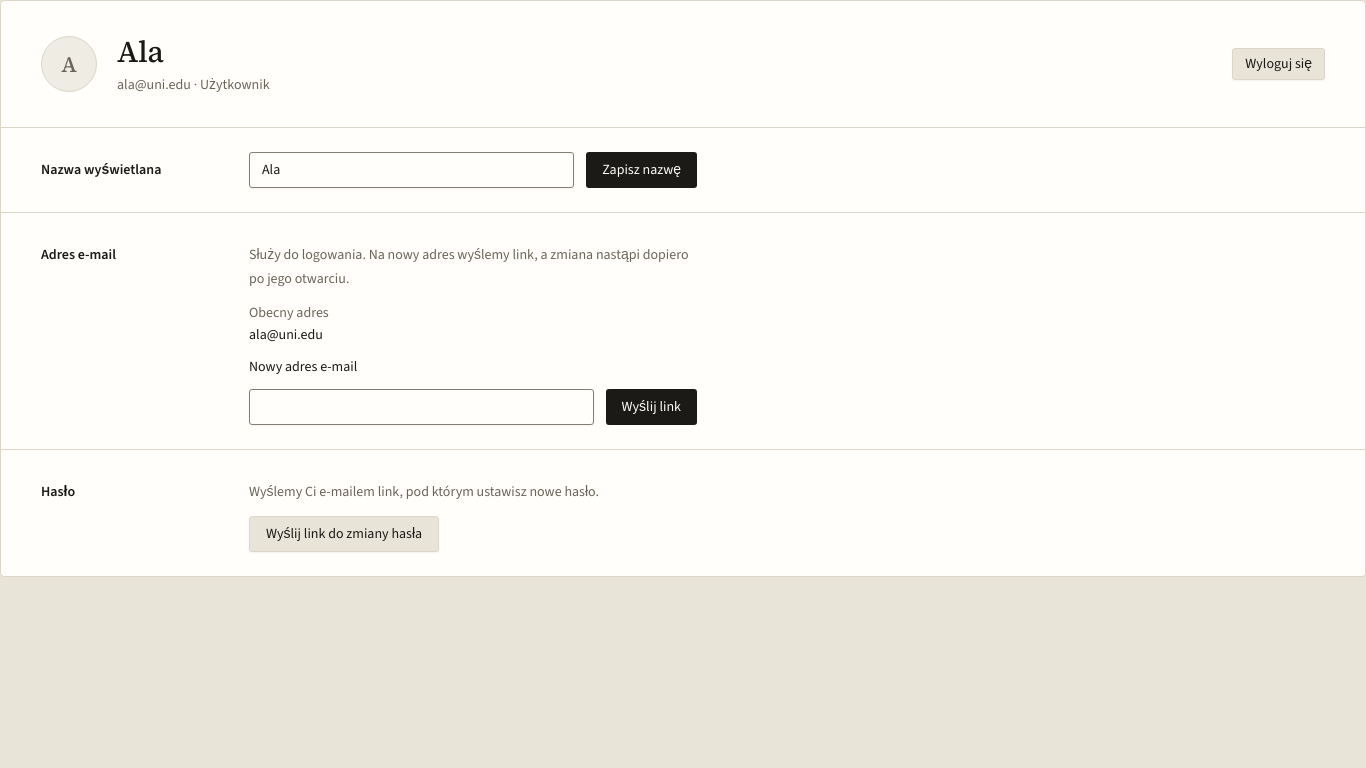
AccountSettings › validates the name before saving
Clear the field named "Nazwa" at (412, 170), box left=249, top=152, right=574, bottom=188
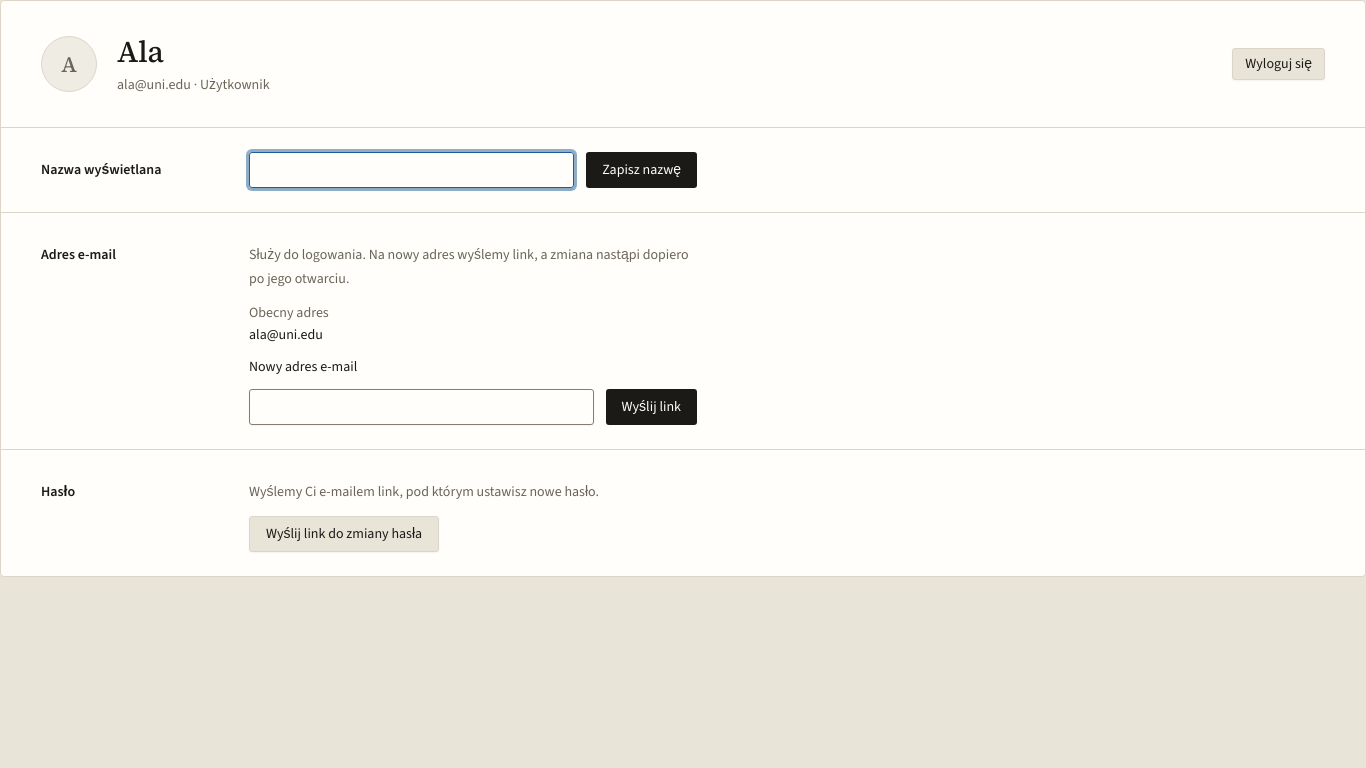
Click the button "Zapisz nazwę" at (642, 170), box left=586, top=152, right=697, bottom=188
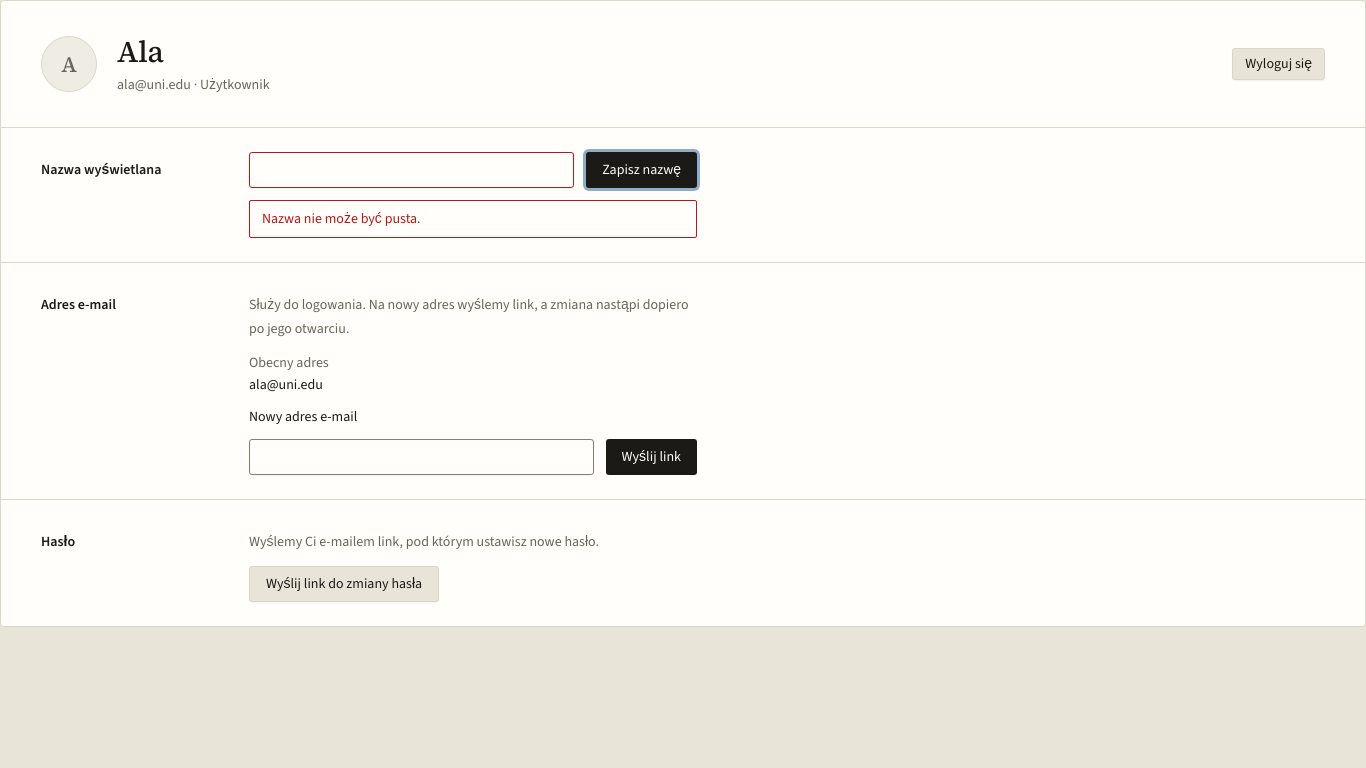
Expected: the message reads "Nazwa nie może być pusta.", left=262, top=208, right=421, bottom=228
